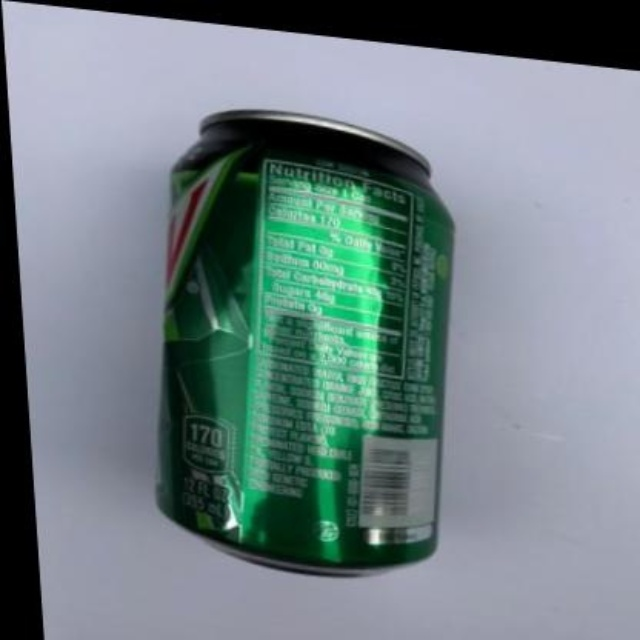trash: (158, 111, 452, 572)
